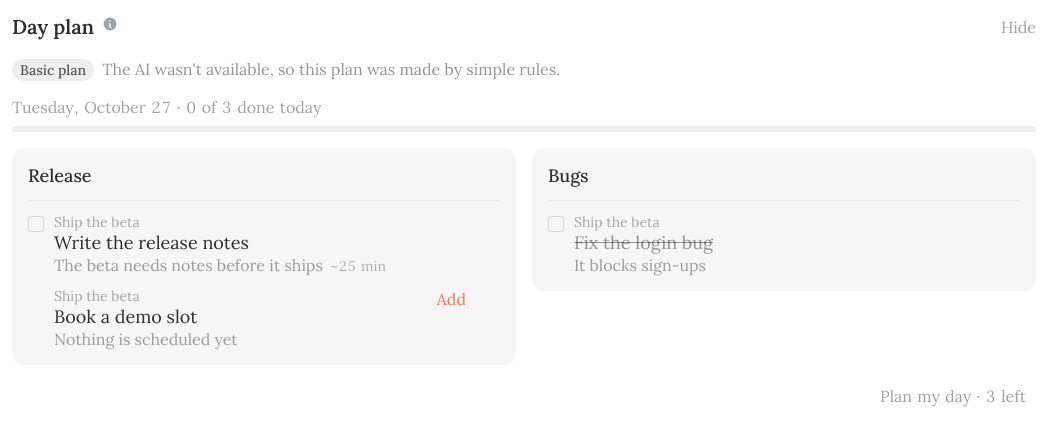
Test: DayPlanSection › basic plan (R69) › should label a rules plan as basic, explain it, and still offer Plan my day
Expected: the text "Write the release notes" is shown, top-left (54, 231), bottom-right (249, 255)
Expected: the text "Basic plan" is shown, top-left (12, 59), bottom-right (94, 81)
Click the button "Plan my day · 3 left".
click(953, 396)  # box top-left (870, 381), bottom-right (1036, 411)
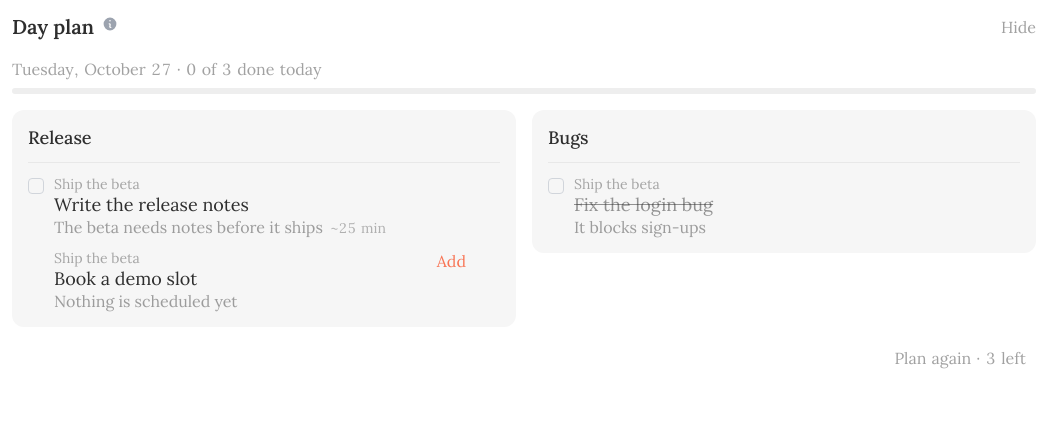
Now the text "Basic plan" is gone
